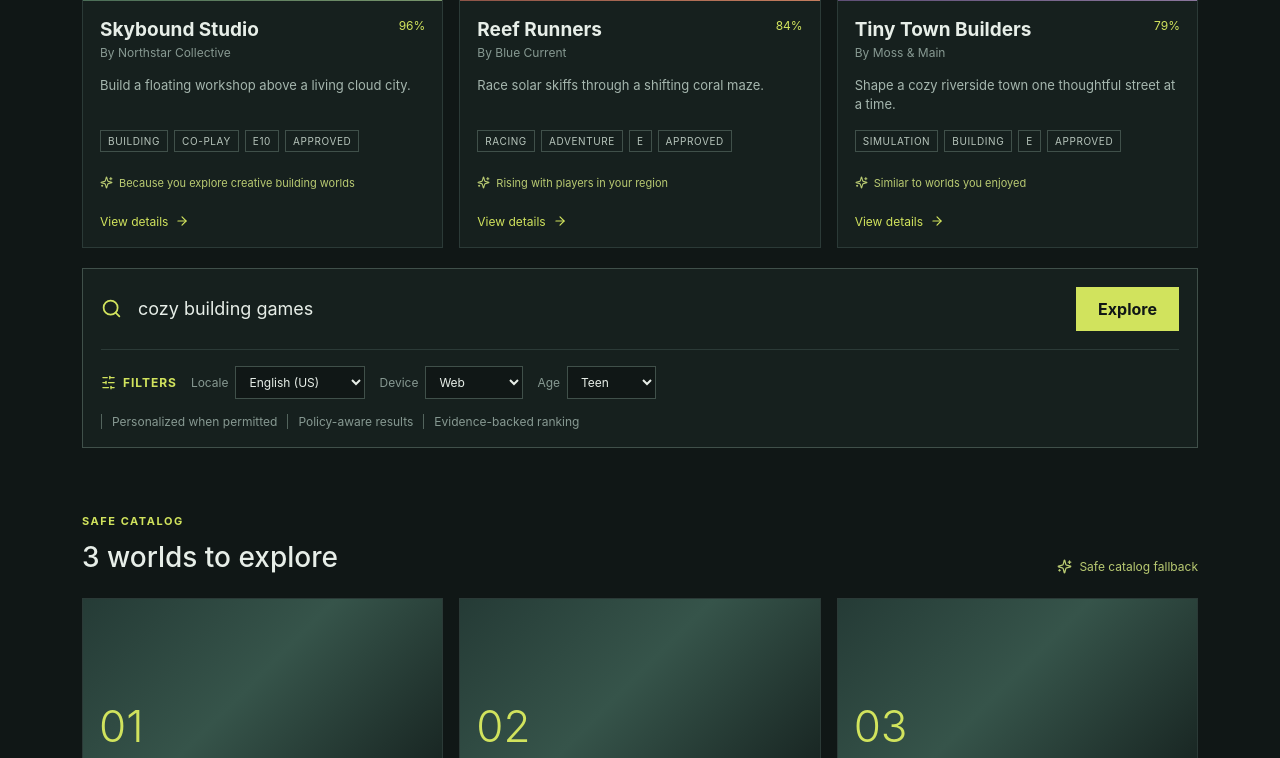
Test: discovery search experience › keeps pagination keyboard accessible and sends the next page
This screenshot has width=1280, height=758.
(page scrolled)
Click the button "Explore".
click(1128, 309)  # box [1076,287,1179,331]
(page scrolled)
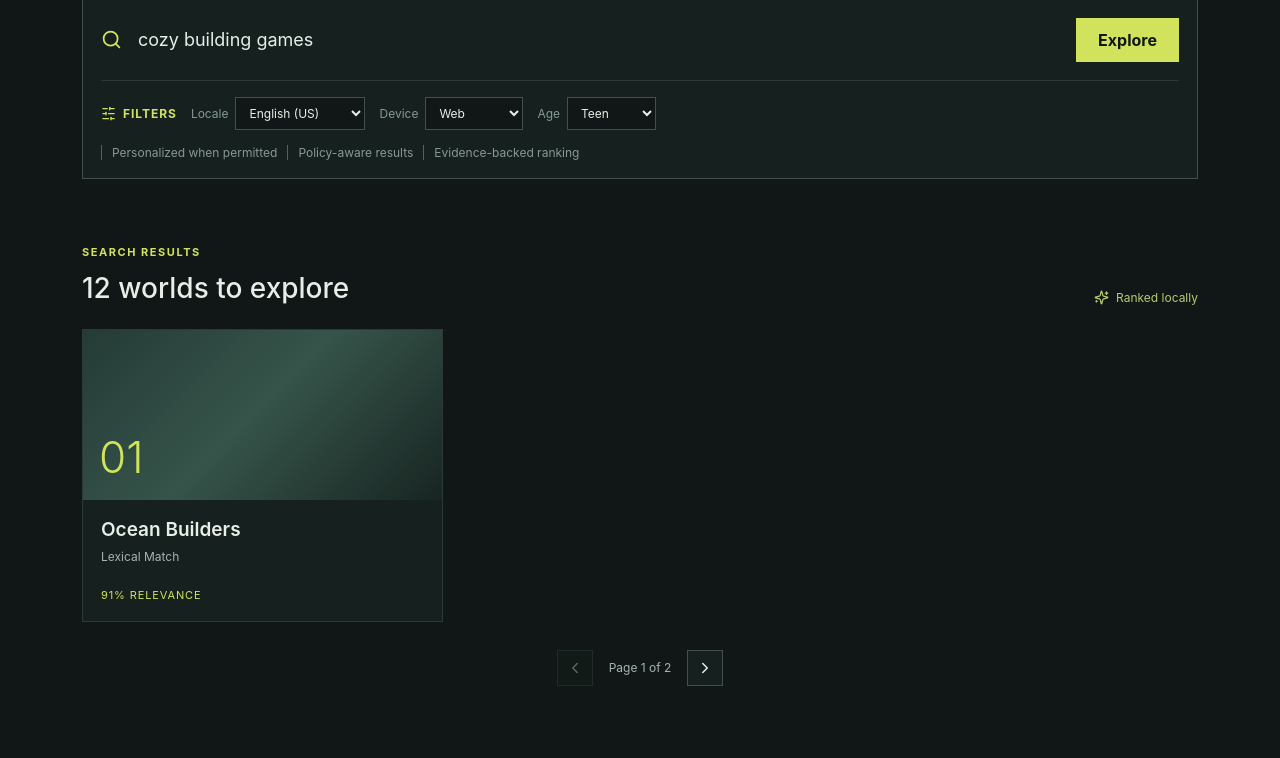
Now the text "Page 1 of 2" is shown, box [609,660,671,675]
Click the button named "Next page".
click(705, 668)  # box [687,650,723,686]
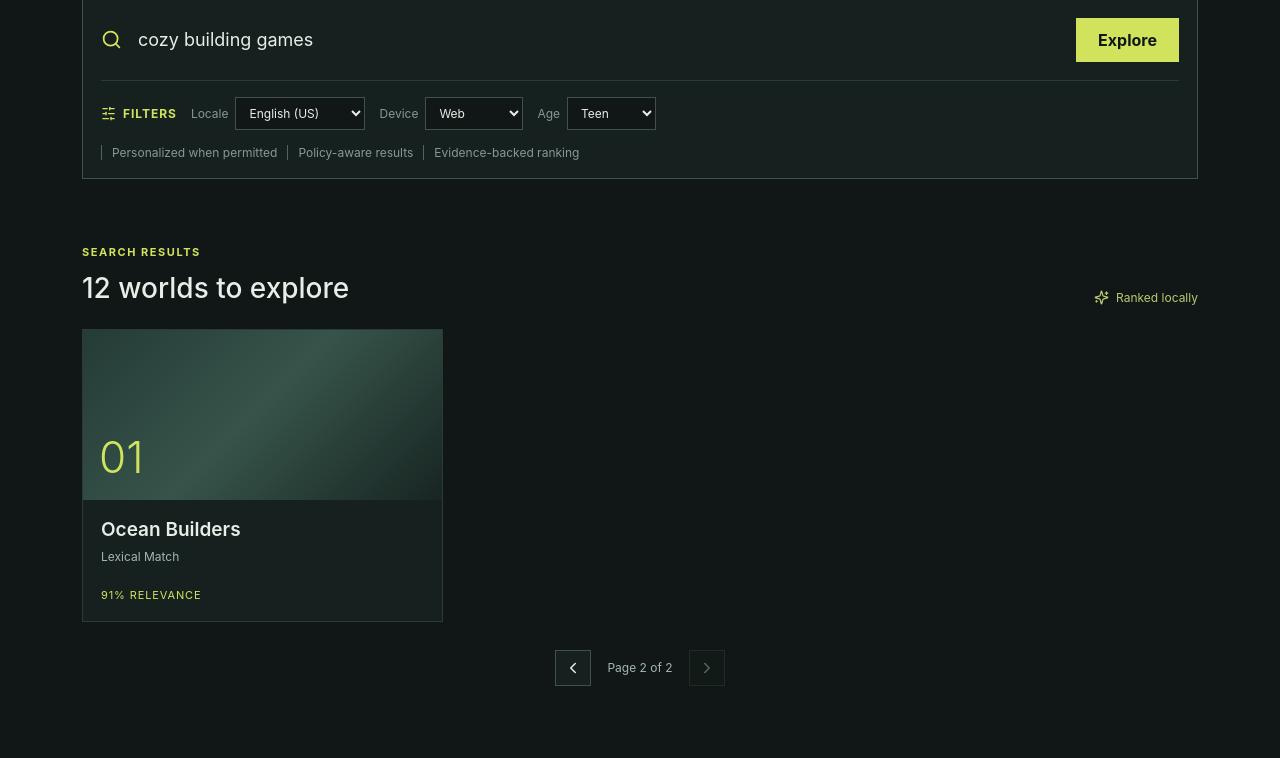
Now the text "Page 2 of 2" is shown, box [607,660,673,675]
